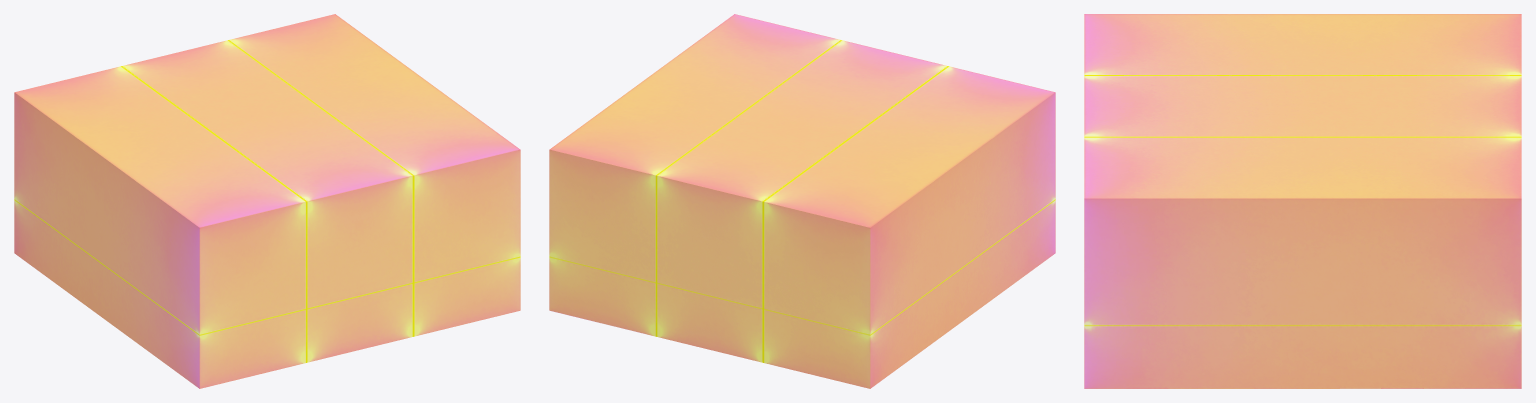
File: casa_last.glb
3 renders of one model, left to right at view 1: azimuth 30°, elevation 25°; view 2: azimuth 150°, elevation 25°; view 3: azimuth 270°, elevation 25°, orthographic. The views are drawn at different scales.
Visible parts, largest first — view 1: house; view 2: house; view 3: house.
Boxes of the visible parts, <box> form: house: <box>14,14,520,388</box>; house: <box>549,14,1055,388</box>; house: <box>1084,14,1521,388</box>.
Size of the model in its own units: 125 by 60.1 by 125.
Materials: 2 (2 with a texture image).
